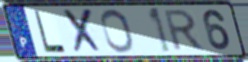1: (147, 6, 172, 55)
6: (202, 8, 233, 52)
L: (33, 9, 68, 55)
O: (99, 8, 137, 54)
R: (163, 8, 207, 53)
X: (61, 8, 105, 55)
